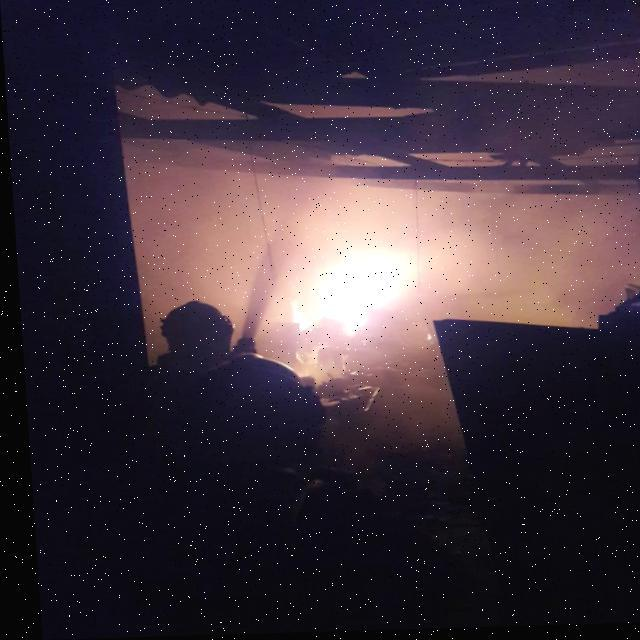Fire: (276, 238, 428, 332)
